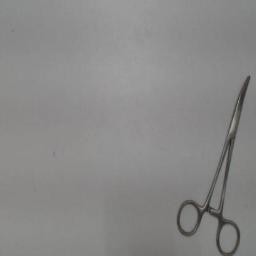Crile Artery Forceps: (174, 70, 254, 254)
